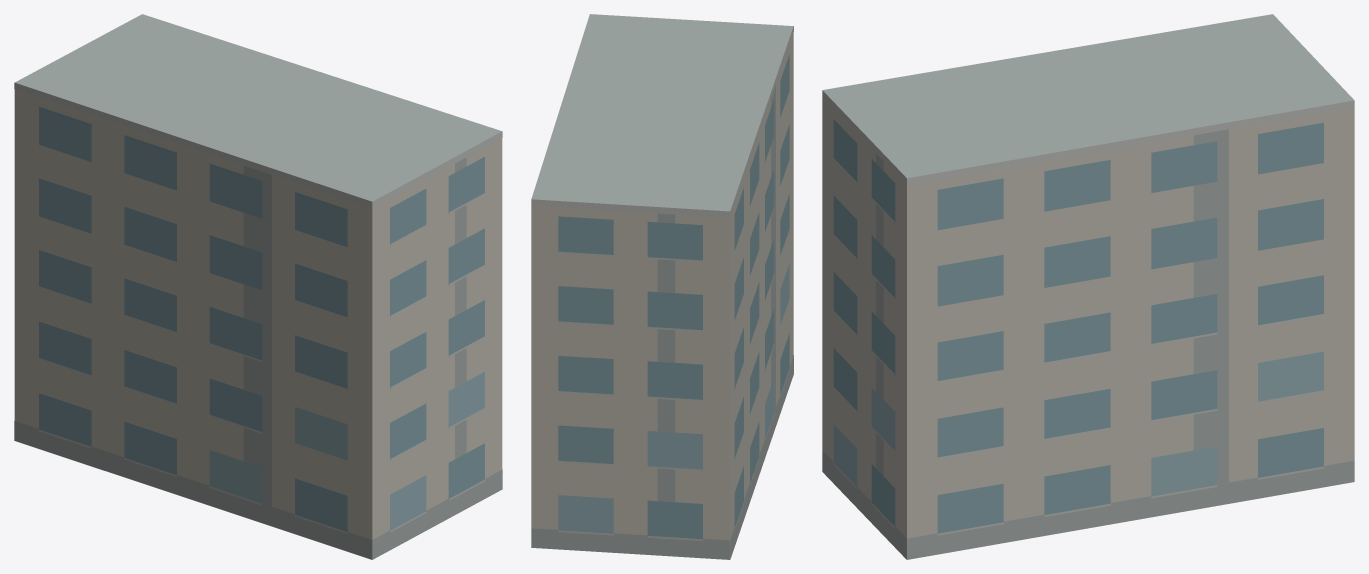
File: survey-upis-33029998.glb
3 renders of one model, left to right at view 1: azimuth 30°, elevation 25°; view 2: azimuth 150°, elevation 25°; view 3: azimuth 270°, elevation 25°, orthographic. The views are drawn at different scales.
Parts seen in each view (by area): view 1: survey-upis-33029998.tmp; view 2: survey-upis-33029998.tmp; view 3: survey-upis-33029998.tmp.
Part boxes in pixels (<box>): survey-upis-33029998.tmp: <box>14,14,502,559</box>; survey-upis-33029998.tmp: <box>531,14,793,559</box>; survey-upis-33029998.tmp: <box>822,14,1354,559</box>.
Bounding box in the file's own units: 12.25 × 13.25 × 16.76.
